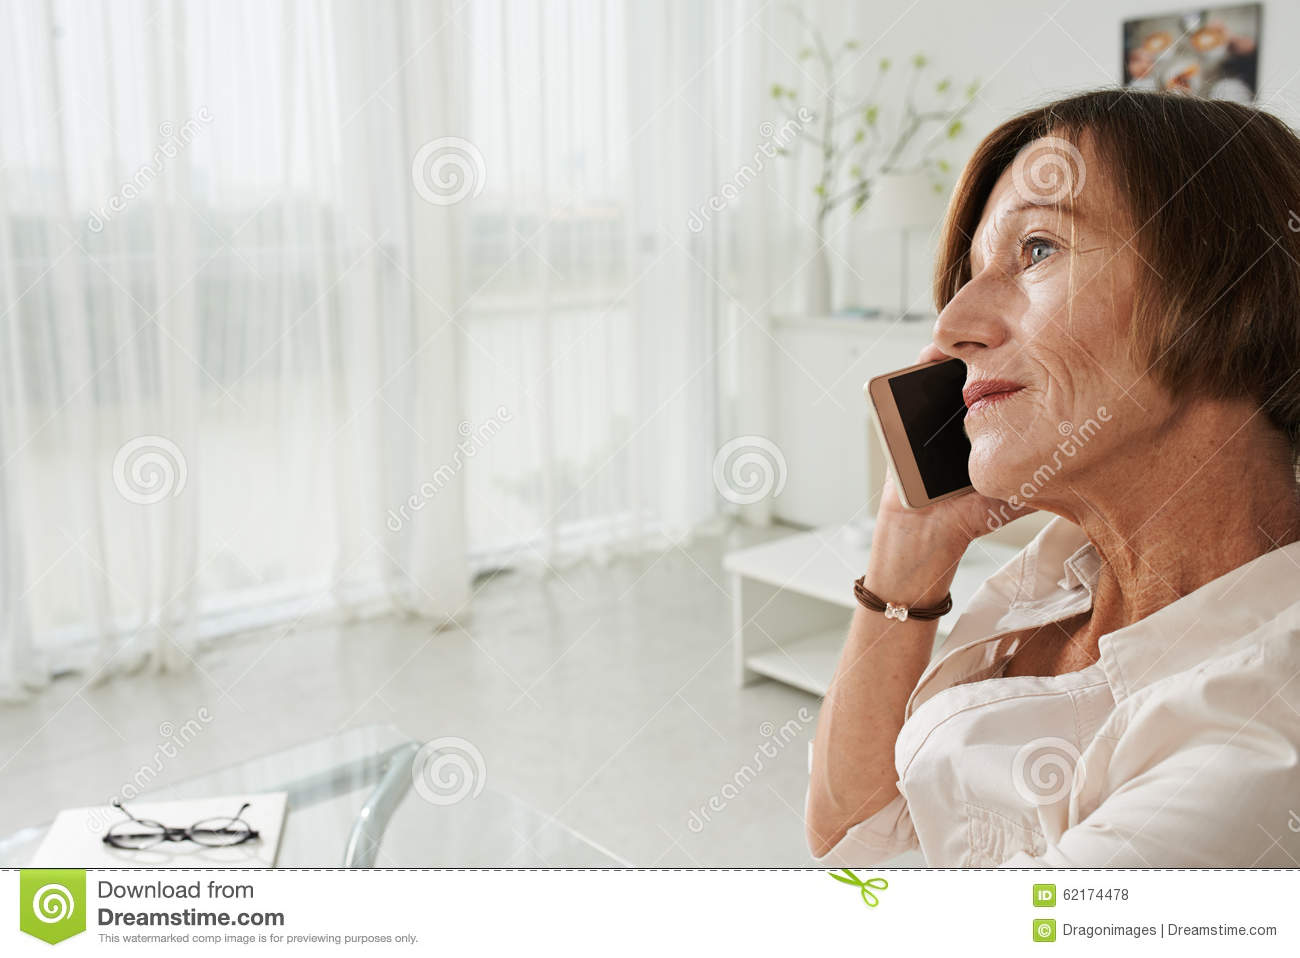phone: (868, 358, 983, 510)
talk: (859, 184, 1093, 619)
